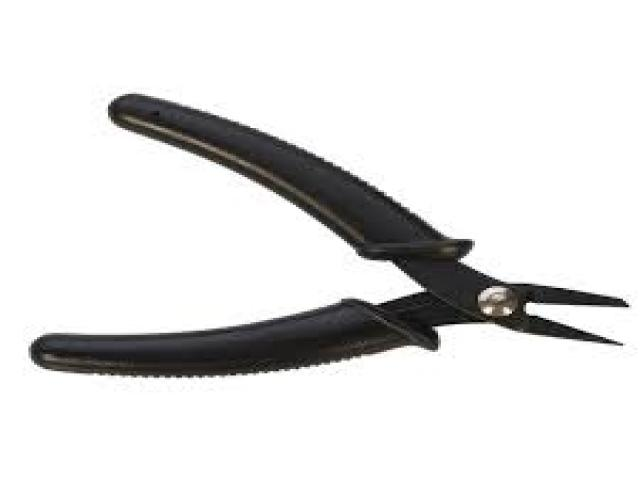Cutting pliers: (31, 95, 628, 375)
